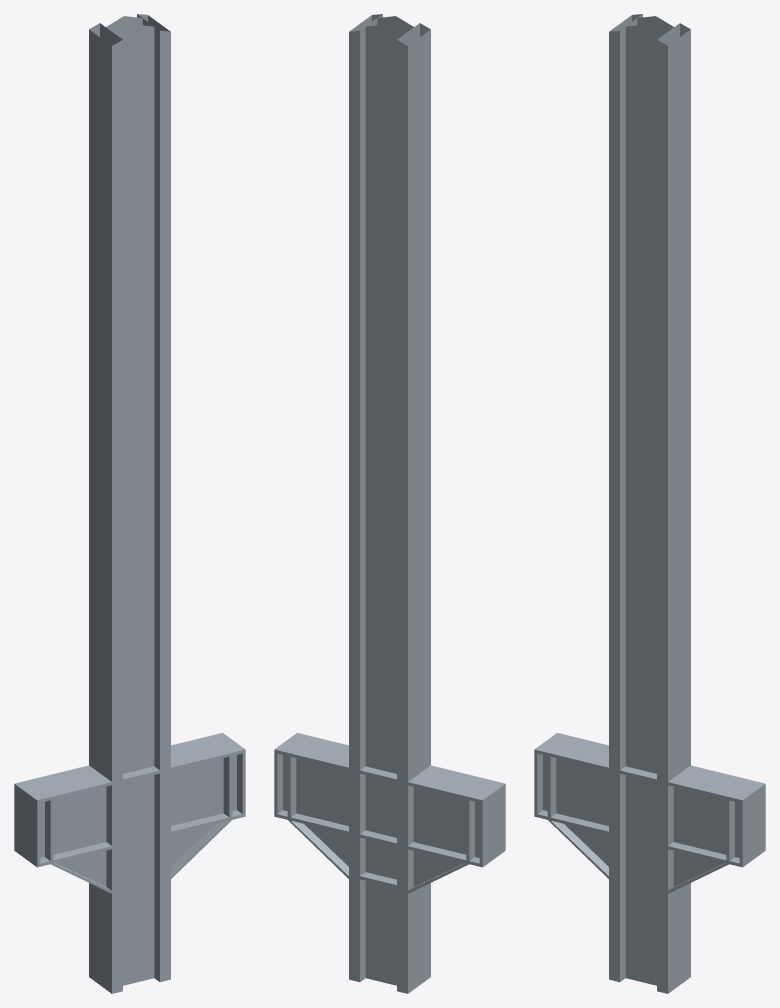
Rendered from SM06_Building_Structure_Column_Gable_Top_02.fbx.
The picture shows the model from 3 angles, left to right: view 1: azimuth 30°, elevation 25°; view 2: azimuth 150°, elevation 25°; view 3: azimuth 330°, elevation 25°; orthographic projection.
Parts seen in each view (by area): view 1: SM06_Building_Structure_Column_Gable_Top_02; view 2: SM06_Building_Structure_Column_Gable_Top_02; view 3: SM06_Building_Structure_Column_Gable_Top_02.
Part boxes in pixels (box(x1,y1,x2,y2)): SM06_Building_Structure_Column_Gable_Top_02: box(14, 14, 245, 993); SM06_Building_Structure_Column_Gable_Top_02: box(274, 14, 505, 993); SM06_Building_Structure_Column_Gable_Top_02: box(534, 14, 765, 993).
Size of the model in its own units: 2.09 by 9.18 by 0.3976.
